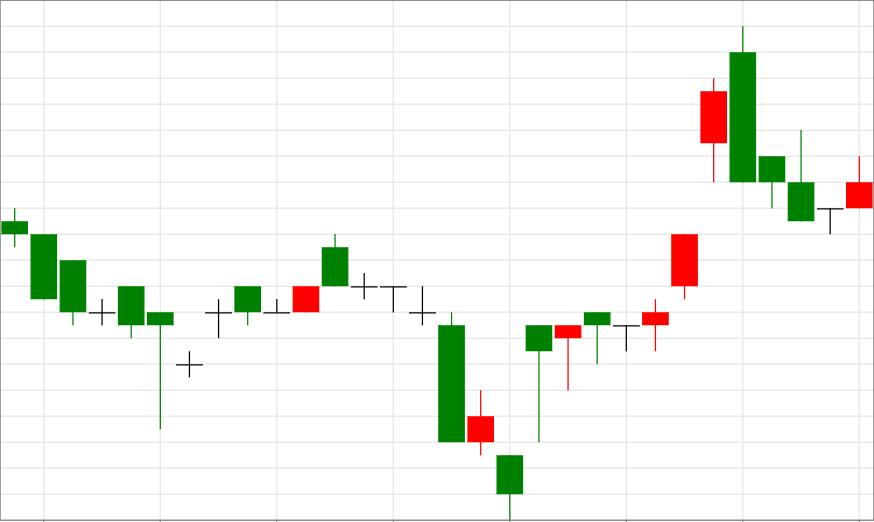bearish_engulfing_fall: (555, 26, 755, 392)
